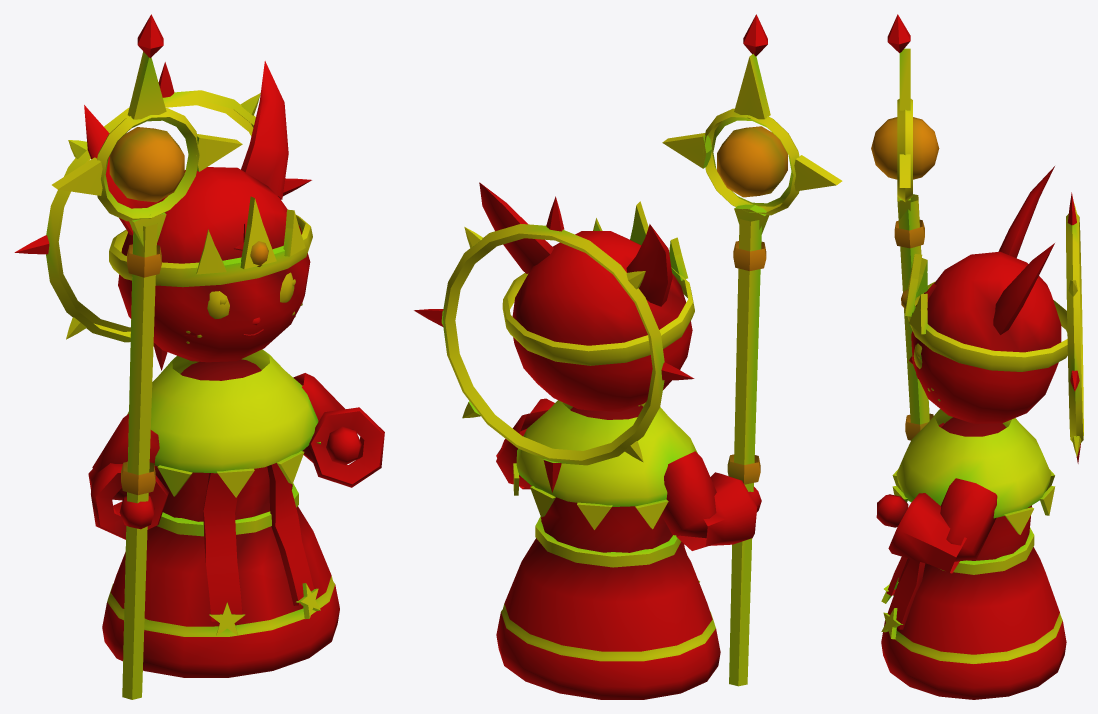
File: StarPriestess.glb
3 views of the same model, side by side, from view 1: azimuth 30°, elevation 25°; view 2: azimuth 150°, elevation 25°; view 3: azimuth 270°, elevation 25° (orthographic). The views are drawn at different scales.
Visible parts, largest first — view 1: StarPriestess; view 2: StarPriestess; view 3: StarPriestess.
Boxes of the visible parts, x1=… form: StarPriestess: x1=14, y1=14, x2=384, y2=699; StarPriestess: x1=414, y1=14, x2=842, y2=699; StarPriestess: x1=871, y1=14, x2=1083, y2=699.
Size of the model in its own units: 0.652 by 1.26 by 0.387.
